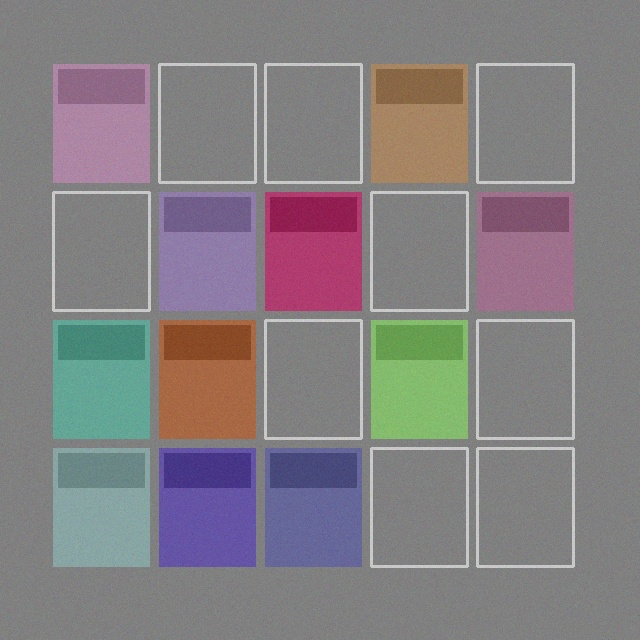space-empty: (159, 64, 255, 182), (265, 64, 361, 182), (477, 64, 573, 182), (53, 192, 149, 310), (371, 192, 467, 310), (265, 320, 361, 438), (477, 320, 573, 438), (371, 448, 467, 566), (477, 448, 573, 566)
space-occupied: (53, 64, 149, 182), (371, 64, 467, 182), (159, 192, 255, 310), (265, 192, 361, 310), (477, 192, 573, 310), (53, 320, 149, 438), (159, 320, 255, 438), (371, 320, 467, 438), (53, 448, 149, 566), (159, 448, 255, 566), (265, 448, 361, 566)
